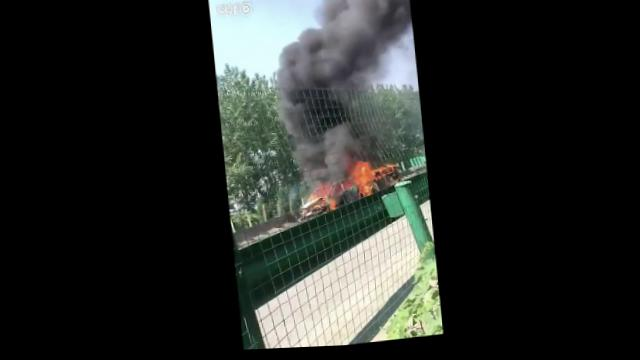fire: (353, 163, 374, 199), (367, 166, 391, 184)
